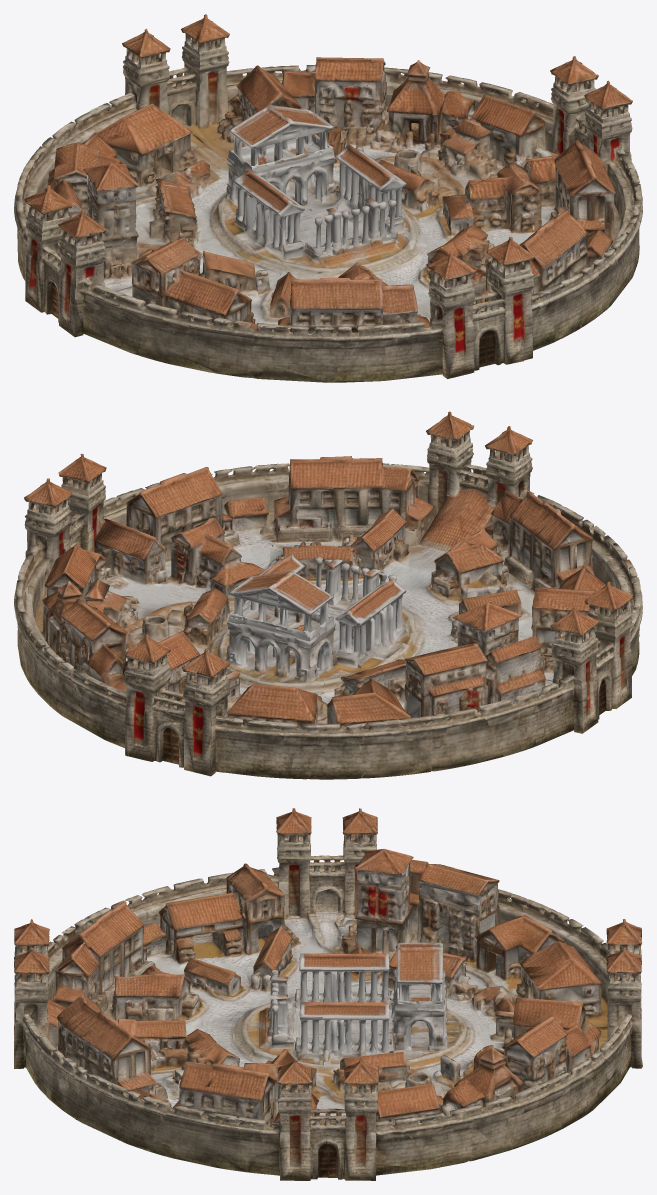
Rendered from Village_Romans_L.glb.
3 renders of one model, top to bottom at view 1: azimuth 30°, elevation 25°; view 2: azimuth 150°, elevation 25°; view 3: azimuth 270°, elevation 25°, orthographic. The views are drawn at different scales.
Visible parts, largest first — view 1: Mesh_0; view 2: Mesh_0; view 3: Mesh_0.
Part boxes in pixels (box(x1,y1,x2,y2)): Mesh_0: box(14, 14, 642, 382); Mesh_0: box(14, 411, 642, 779); Mesh_0: box(14, 808, 642, 1180).
Size of the model in its own units: 1.9 by 0.3863 by 1.9.
Materials: 1 (1 with a texture image).
